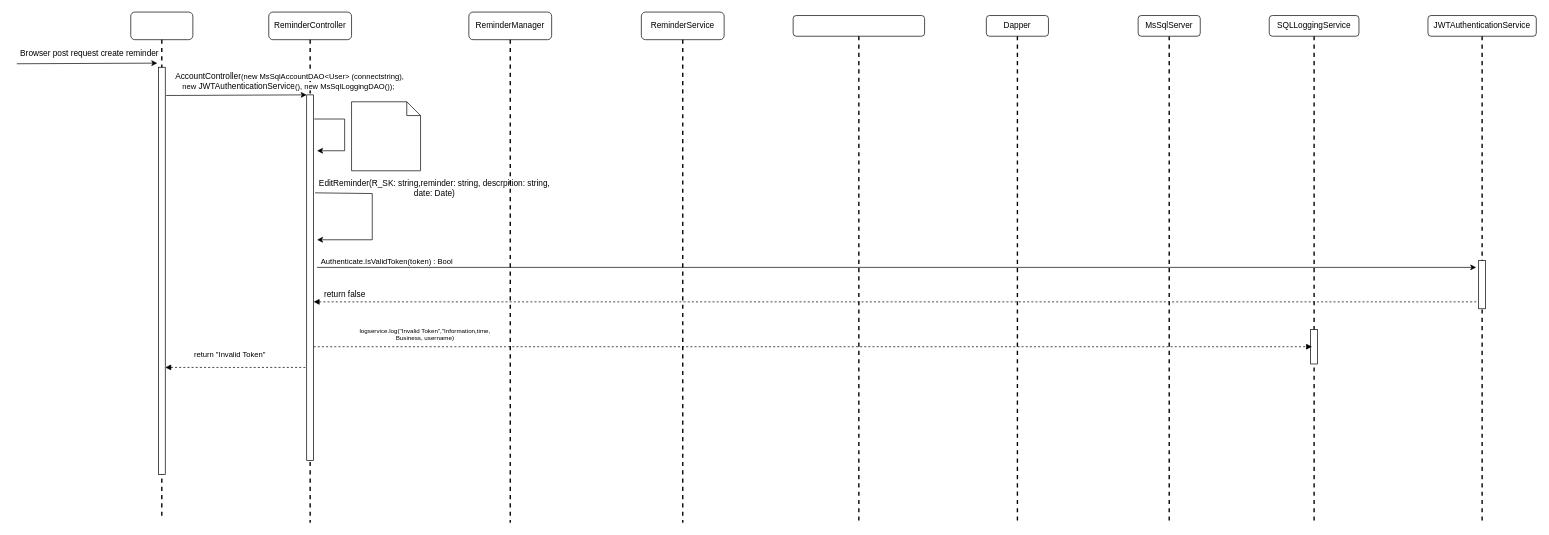
This 1549x535 diagram has some shape labels left out. The centre of each missing label's shape, as x and y in pixels:
"Browser" goes at pixel 161 25.
"Constructor Dependency Injection" goes at pixel 386 136.
"ReminderMsSqlDao" goes at pixel 858 25.
